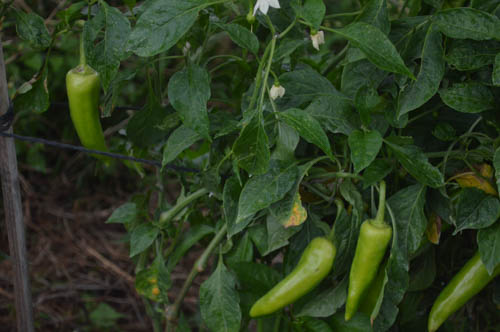ChiliPepper: (244, 237, 339, 319), (424, 245, 492, 323), (344, 222, 391, 322), (64, 70, 107, 156)
